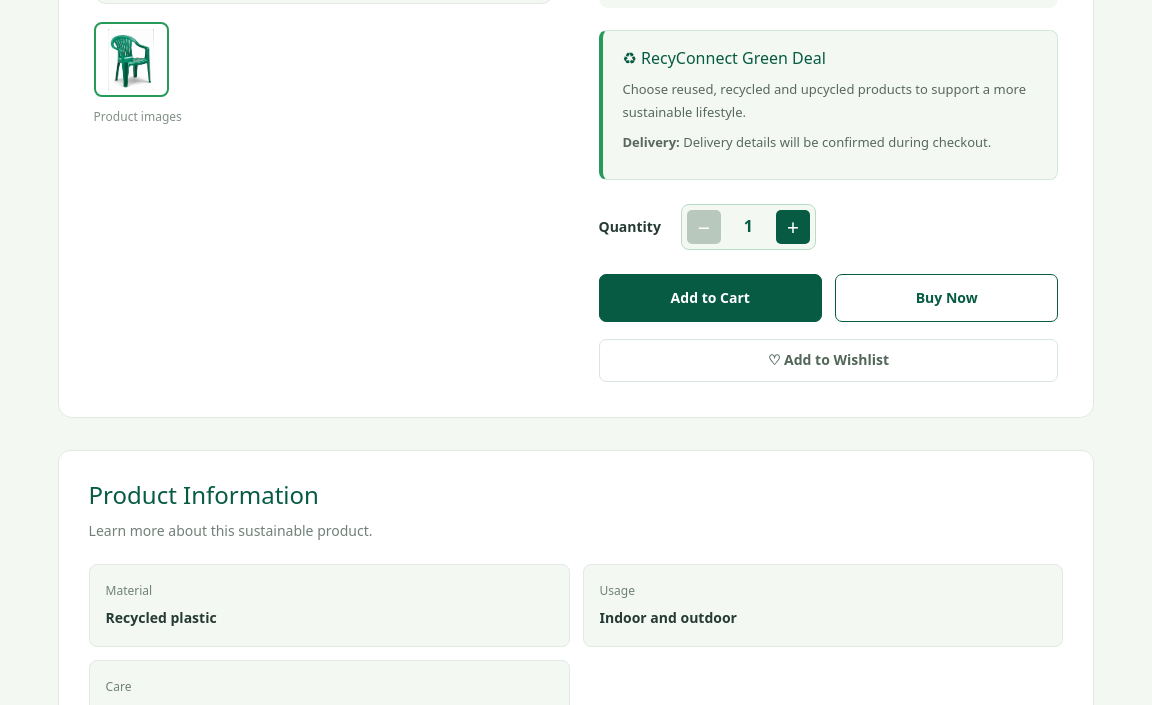
Test: ProductDetails Component › Wishlist Functionality › adds the product to wishlist when clicked
(page scrolled)
Click the button with class "details-wishlist" at (828, 361), box 598,339 -> 1058,382
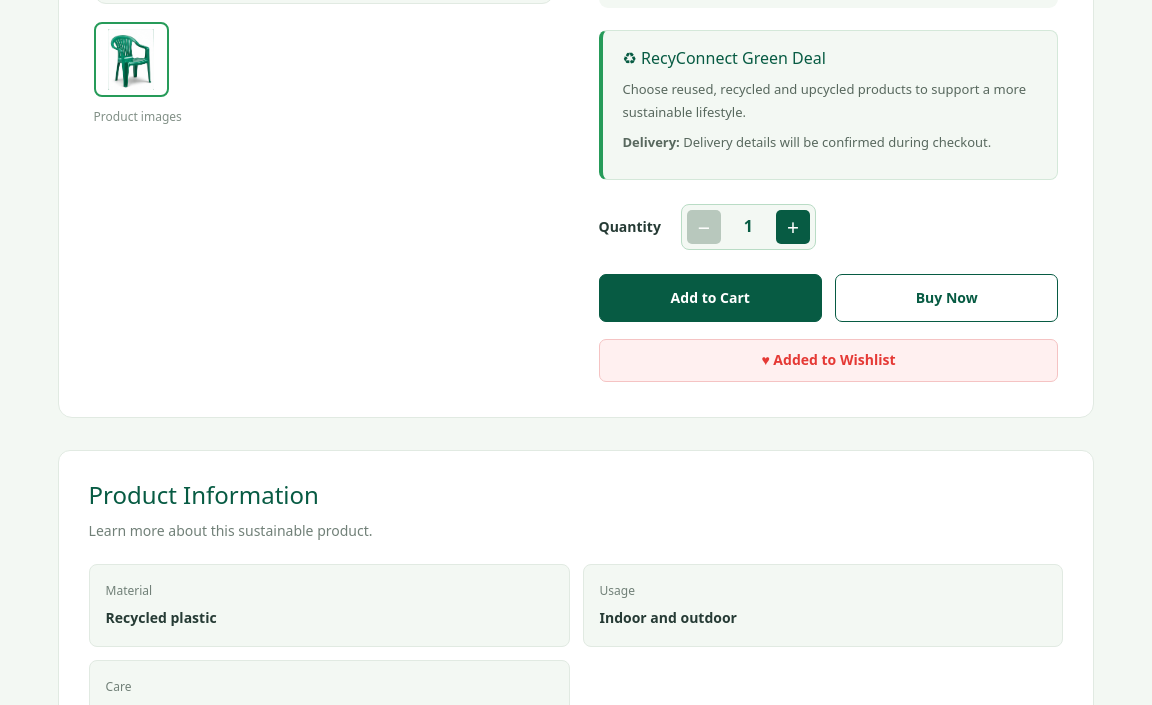
Expected: the button with class "details-wishlist" shows "Added to Wishlist", 598,339 -> 1058,382
